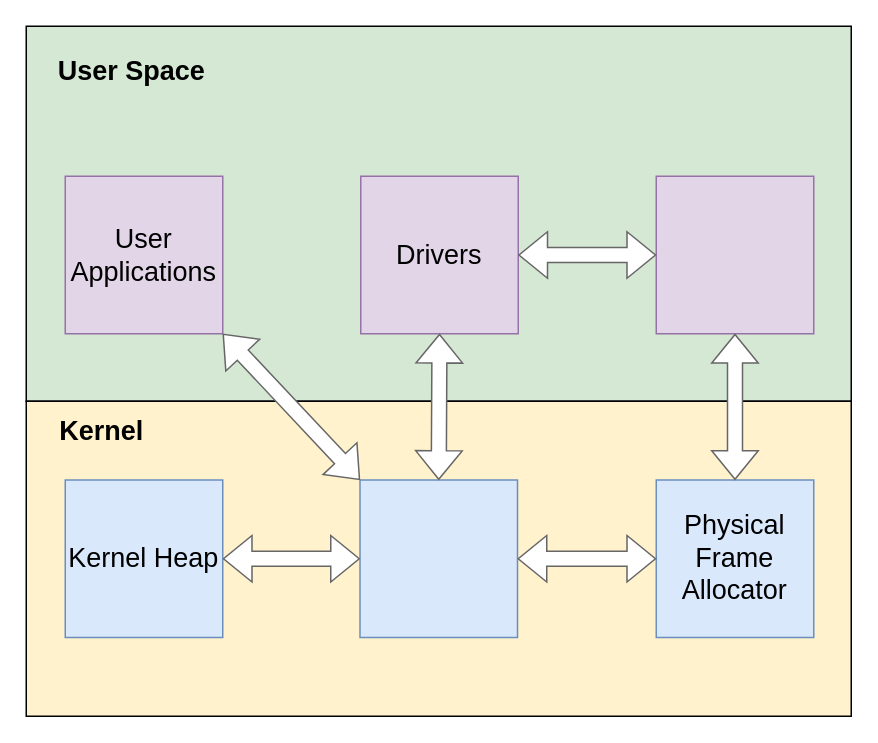
Some shapes in this 878 by 743 pixel diagram are drawn without their labels. Each missing label, with the box of its shape:
Physical Memory Manager: (655, 175, 814, 334)
Virtual Memory Manager: (358, 478, 518, 638)
